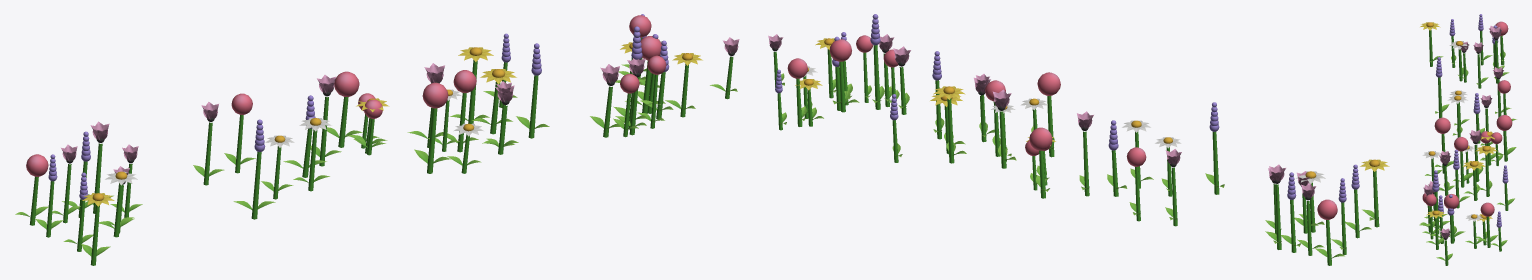
Rendered from storybook-flowers.glb.
3 views of the same model, side by side, from view 1: azimuth 30°, elevation 25°; view 2: azimuth 150°, elevation 25°; view 3: azimuth 270°, elevation 25° (orthographic). The views are drawn at different scales.
Parts seen in each view (by area): view 1: storybook-flowers; view 2: storybook-flowers; view 3: storybook-flowers.
Boxes of the visible parts, x1,y1,x2,y2 form: storybook-flowers: (15,14,739,265); storybook-flowers: (768,14,1389,265); storybook-flowers: (1419,14,1516,265).
Bounding box in the file's own units: 8.23 × 1.18 × 1.65.
